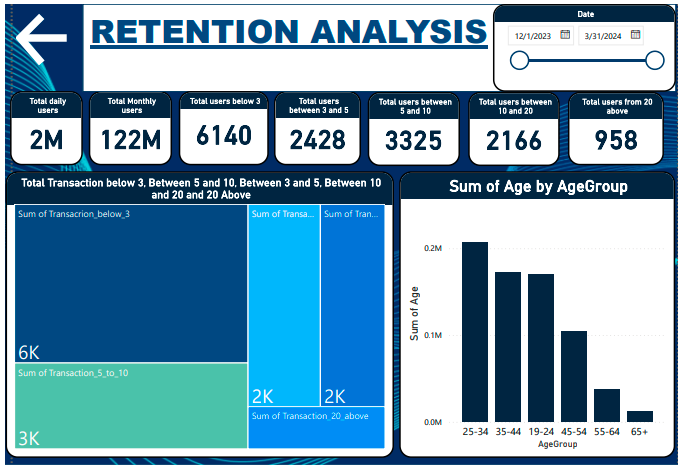

The page's visual inventory and layout, read from the dashboard file:
{"tool":"powerbi","page":{"name":"Retention","canvas":[896,614],"ordinal":4},"visuals":[{"type":"card","title":"Total daily users","fields":{"Values":["Sum(Users_Table1 - Users_Table.Daily user)"]},"box":[6.2,115.6,96.9,99],"z":0},{"type":"card","title":"Total Monthly users","fields":{"Values":["Sum(Users_Table1 - Users_Table.Monthly user)"]},"box":[111.5,115.6,110.4,99],"z":1000},{"type":"card","title":"Total users between 5 and 10","fields":{"Values":["Sum(User_and _NO_Trans.Transaction_5_to_10)"]},"box":[483.3,116.7,122.9,99],"z":2000},{"type":"card","title":"Total users between 3 and 5","fields":{"Values":["Sum(User_and _NO_Trans.Transaction_3_to_5)"]},"box":[358.3,115.6,115.6,99],"z":3000},{"type":"card","title":"Total users from 20 above","fields":{"Values":["Sum(User_and _NO_Trans.Transaction_20_above)"]},"box":[750,116.7,128.1,97.9],"z":4000},{"type":"card","title":"Total users between 10 and 20","fields":{"Values":["Sum(User_and _NO_Trans.Transaction_10_to_20)"]},"box":[616.7,116.7,121.9,99],"z":5000},{"type":"shape","box":[103.3,0,791.1,116.7],"z":6000},{"type":"textbox","box":[108.2,0,552.6,73.2],"z":7000},{"type":"card","title":"Total users below 3","fields":{"Values":["Sum(User_and _NO_Trans.Transacrion_below_3)"]},"box":[231.2,115.6,119.8,99],"z":9000},{"type":"treemap","title":"Total Transaction below 3,  Between 5 and 10,  Between 3 and 5,  Between 10 and 20 and 20 Above","fields":{"Values":["Sum(User_and _NO_Trans.Transacrion_below_3)","Sum(User_and _NO_Trans.Transaction_10_to_20)","Sum(User_and _NO_Trans.Transaction_20_above)","Sum(User_and _NO_Trans.Transaction_3_to_5)","Sum(User_and _NO_Trans.Transaction_5_to_10)"]},"box":[0,222.9,517.7,382.3],"z":10000},{"type":"slicer","title":"Date","fields":{"Values":["Date_table.Date"]},"box":[650,0,244.4,116.7],"z":11000},{"type":"actionButton","box":[2.6,0,100,94.7],"z":12000},{"type":"clusteredColumnChart","fields":{"Category":["Users_Table1 - Users_Table.AgeGroup"],"Y":["Sum(Users_Table1 - Users_Table.Age)"]},"box":[525,222.9,367.7,382.3],"z":13000}]}

Visuals, with their boxes in screenshot pixels (x1, y1, x2, y2), scaled from the page's 896x614 canvas onto the 680x468 screenshot:
"Total daily users" card: 5 88 78 164
"Total Monthly users" card: 85 88 168 164
"Total users between 5 and 10" card: 367 89 460 164
"Total users between 3 and 5" card: 272 88 360 164
"Total users from 20 above" card: 569 89 666 164
"Total users between 10 and 20" card: 468 89 561 164
shape: 78 0 679 89
textbox: 82 0 502 56
"Total users below 3" card: 175 88 266 164
"Total Transaction below 3,  Between 5 and 10,  Between 3 and 5,  Between 10 and 20 and 20 Above" treemap: 0 170 393 461
"Date" slicer: 493 0 679 89
actionButton: 2 0 78 72
clusteredColumnChart - Users_Table1 - Users_Table.AgeGroup x Sum(Users_Table1 - Users_Table.Age): 398 170 677 461
